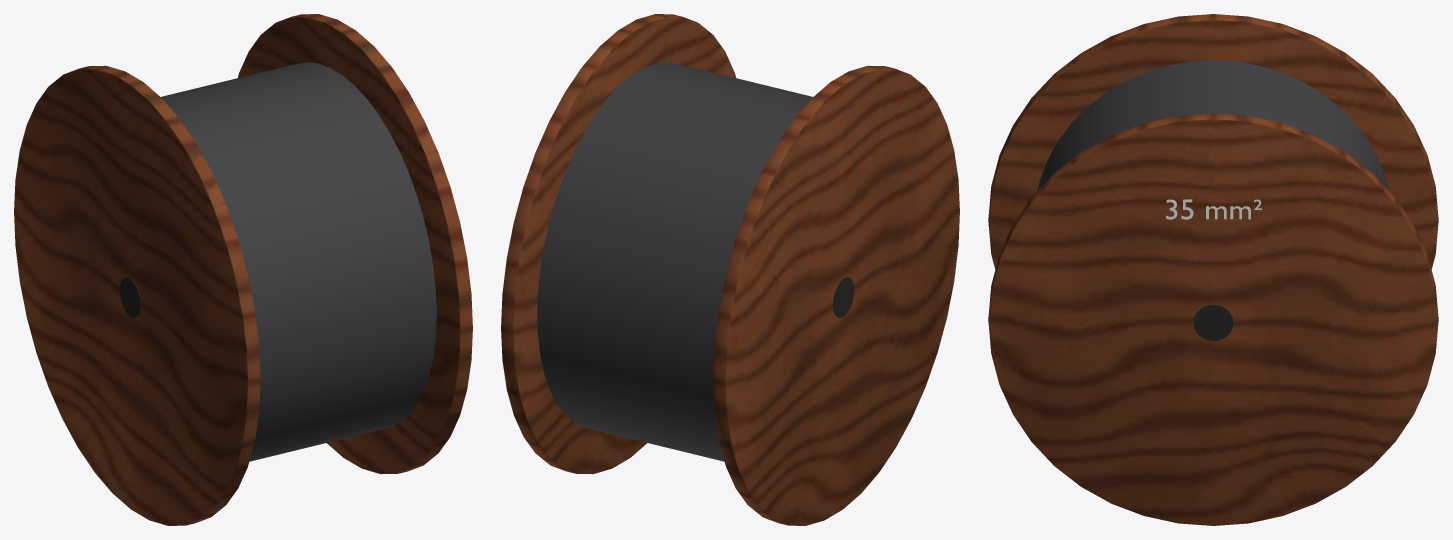
Rendered from ELE-FIO-007_lod1.glb.
The picture shows the model from 3 angles, left to right: view 1: azimuth 30°, elevation 25°; view 2: azimuth 150°, elevation 25°; view 3: azimuth 270°, elevation 25°; orthographic projection. The views are drawn at different scales.
Parts seen in each view (by area): view 1: ELE-FIO-007_flange-1, ELE-FIO-007_cabo, ELE-FIO-007_flange1, ELE-FIO-007_furo-1; view 2: ELE-FIO-007_flange-1, ELE-FIO-007_cabo, ELE-FIO-007_flange1, ELE-FIO-007_furo-1; view 3: ELE-FIO-007_flange1, ELE-FIO-007_flange-1, ELE-FIO-007_cabo, ELE-FIO-007_furo1, ELE-FIO-007_texto.
Boxes of the visible parts, x1,y1,x2,y2 form: ELE-FIO-007_flange-1: (14, 65, 260, 525); ELE-FIO-007_cabo: (161, 62, 436, 461); ELE-FIO-007_flange1: (238, 14, 472, 474); ELE-FIO-007_furo-1: (119, 277, 140, 317); ELE-FIO-007_flange-1: (713, 65, 959, 525); ELE-FIO-007_cabo: (537, 62, 812, 461); ELE-FIO-007_flange1: (501, 14, 735, 474); ELE-FIO-007_furo-1: (833, 277, 854, 317); ELE-FIO-007_flange1: (988, 113, 1438, 525); ELE-FIO-007_flange-1: (988, 14, 1438, 269); ELE-FIO-007_cabo: (1037, 60, 1389, 190); ELE-FIO-007_furo1: (1193, 304, 1233, 340); ELE-FIO-007_texto: (1166, 199, 1261, 219).
Bounding box in the file's own units: 0.502 × 0.9 × 0.9.
Materials: 4 (1 with a texture image).
